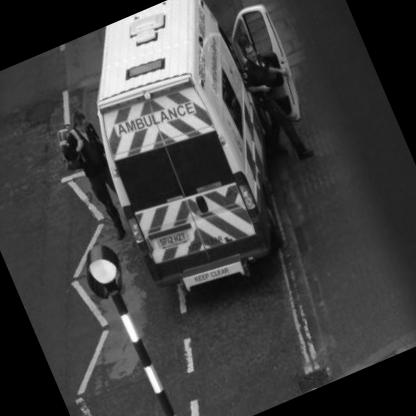ambulance: (53, 1, 343, 320)
